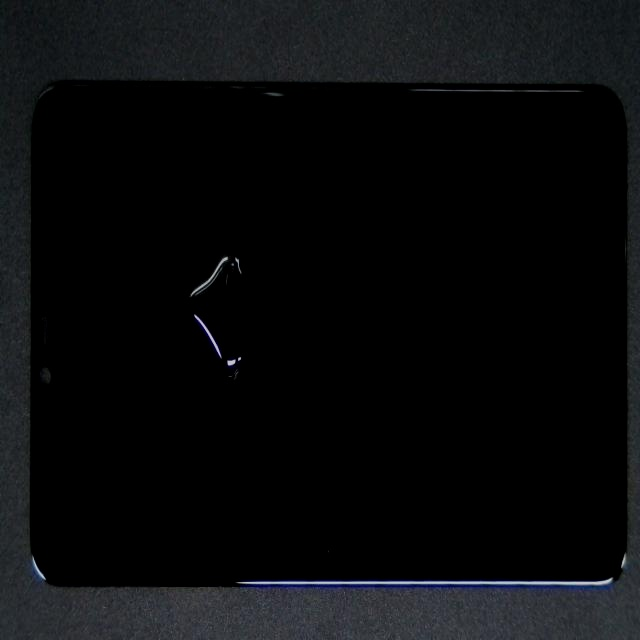oil: (127, 86, 311, 392)
